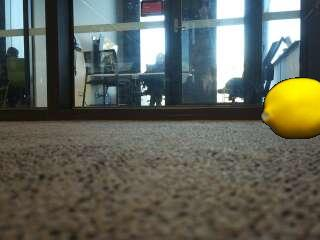lemon: (263, 79, 320, 139)
